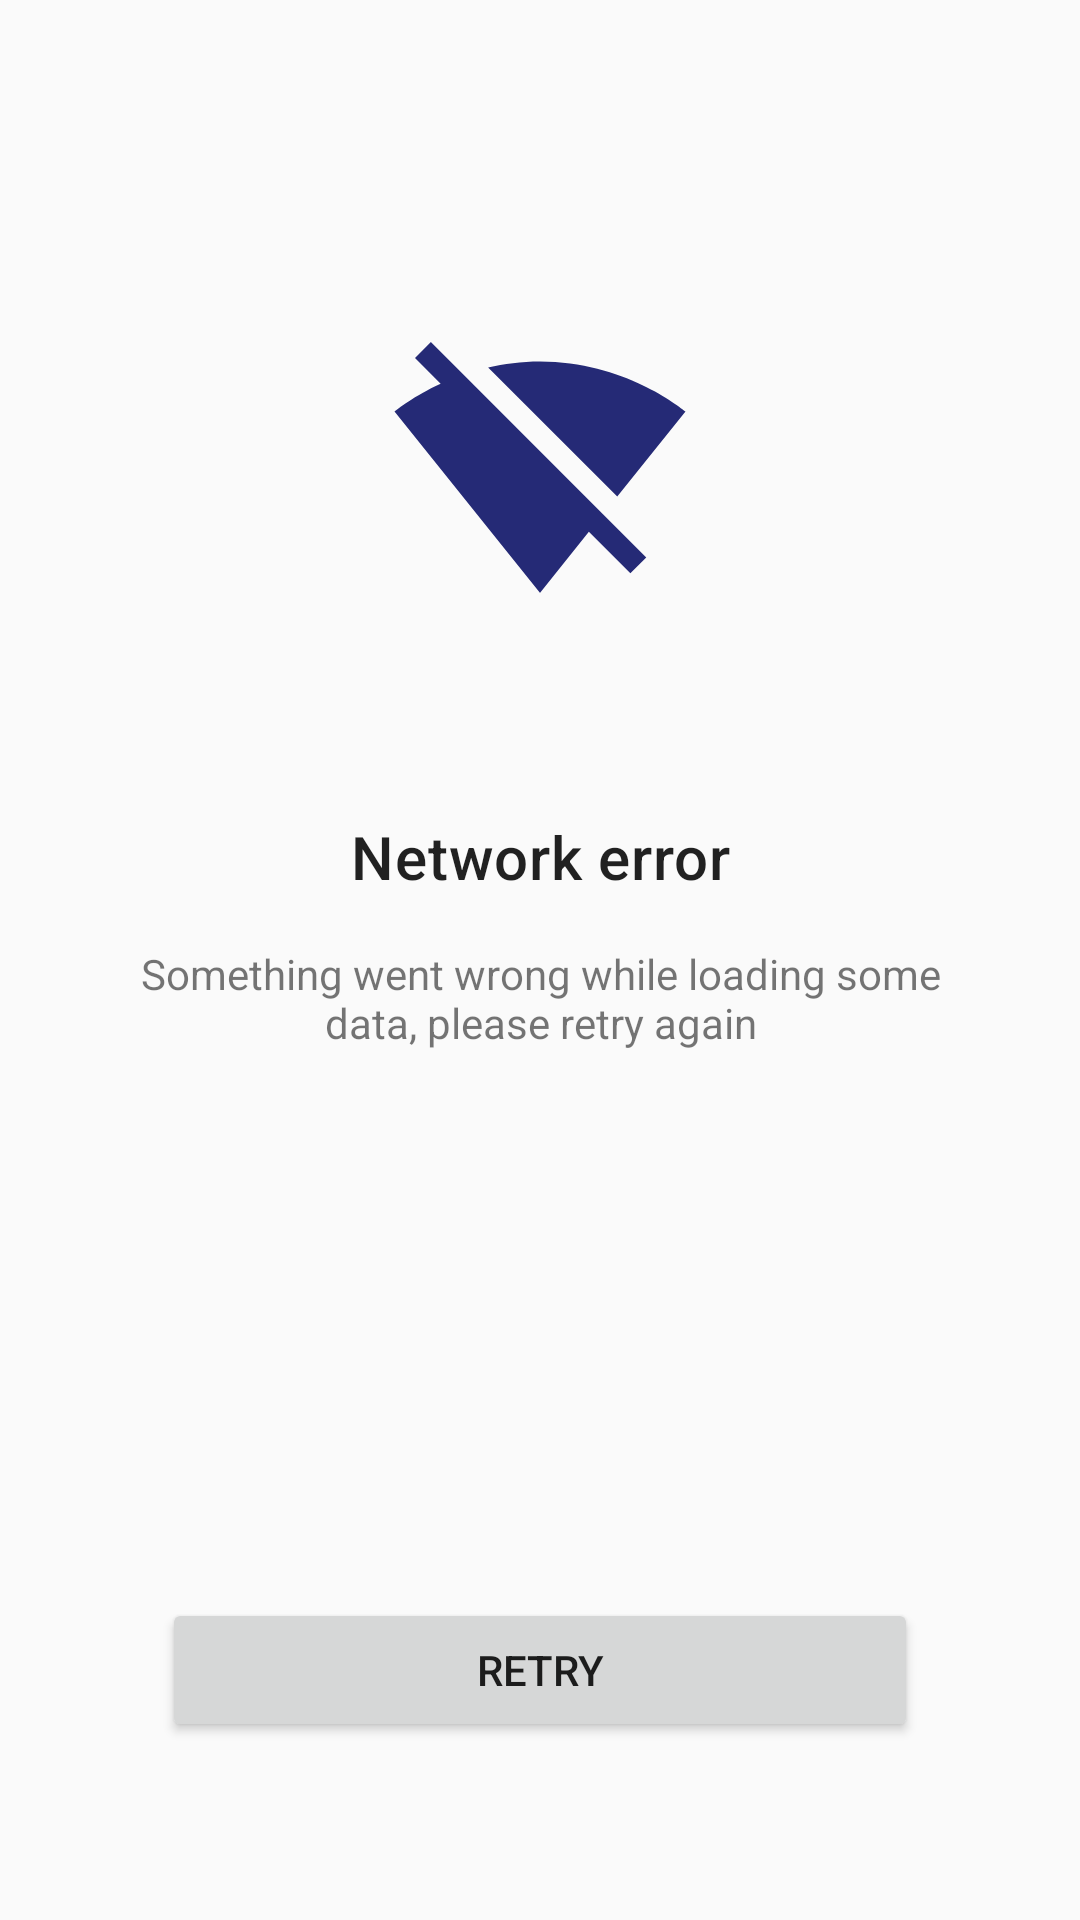

Named icons in this screenshot (1080w x 1920h) and their bounding boxes, (x1, y1, x2, y2):
signal wifi off: (394, 342, 686, 593)
